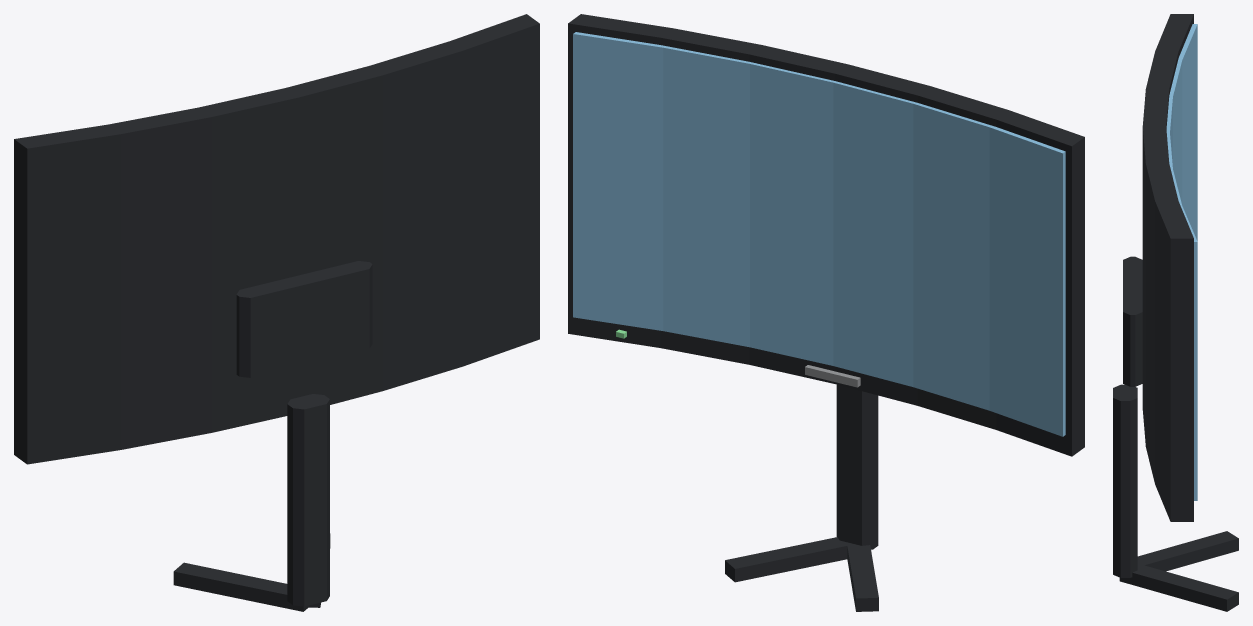
File: Updated Monitor.fbx
3 renders of one model, left to right at view 1: azimuth 30°, elevation 25°; view 2: azimuth 150°, elevation 25°; view 3: azimuth 270°, elevation 25°, orthographic. The views are drawn at different scales.
Visible parts, largest first — view 1: SM_LPI_Tech_MonitorWide_01; view 2: SM_LPI_Tech_MonitorWide_01; view 3: SM_LPI_Tech_MonitorWide_01.
Boxes of the visible parts, left/top/right/bottom form: SM_LPI_Tech_MonitorWide_01: left=14, top=14, right=539, bottom=611; SM_LPI_Tech_MonitorWide_01: left=568, top=14, right=1084, bottom=611; SM_LPI_Tech_MonitorWide_01: left=1113, top=14, right=1238, bottom=611.
Size of the model in its own units: 86 by 80.63 by 20.36.
